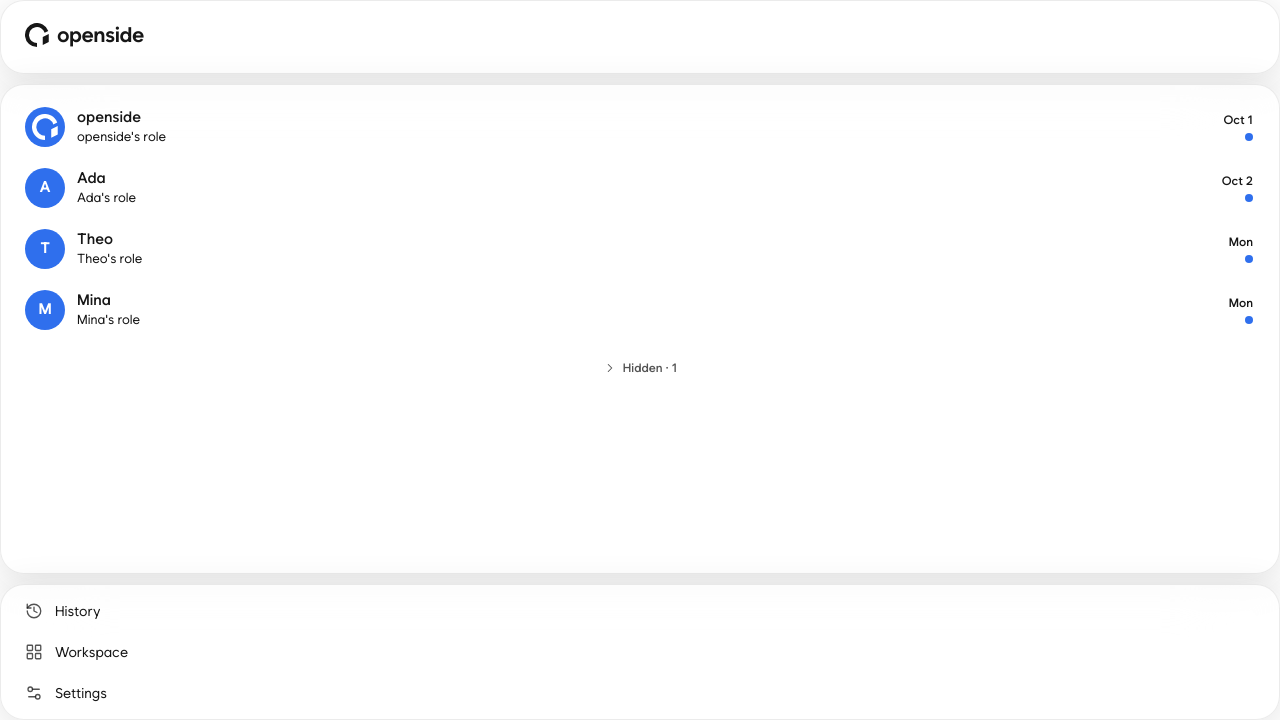
Test: people order › folds hidden teammates behind a disclosure
Expected: the link "Quiet" is not shown
Click the button "Hidden · 1". click: (640, 368)
box: [13,348,1267,388]
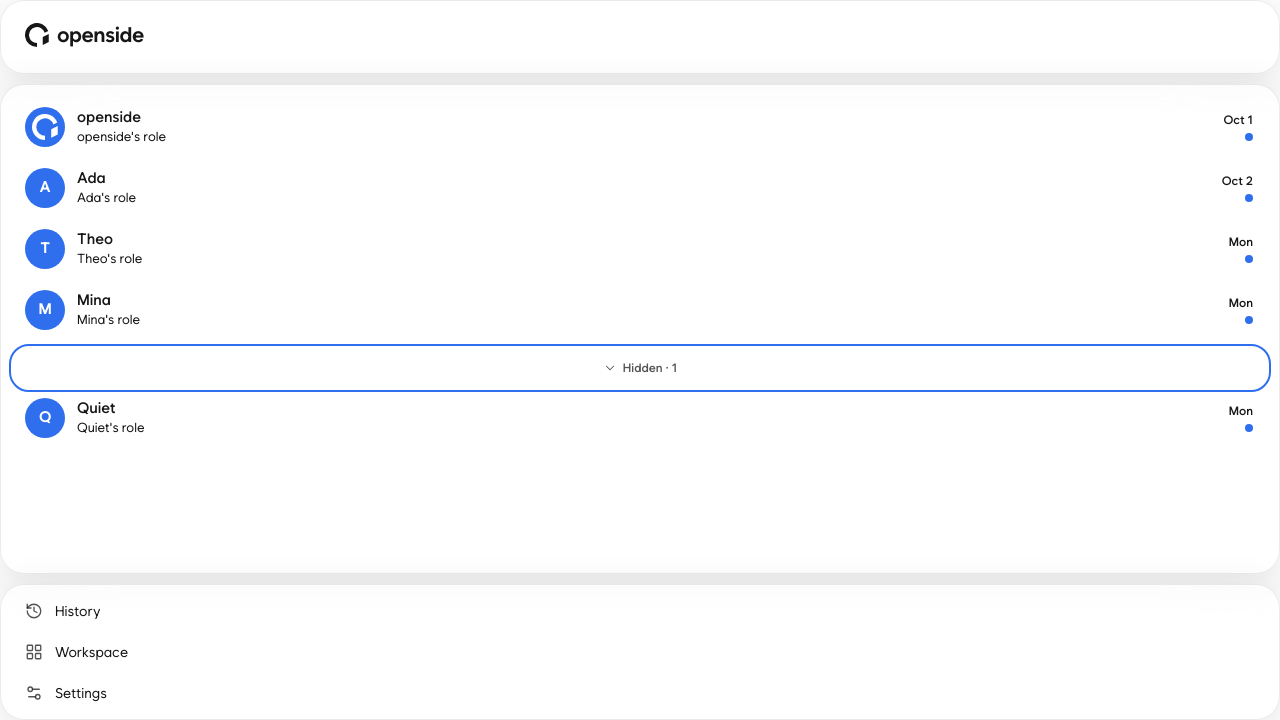
Result: the link "Q Quiet Quiet's role Mon" is shown at [13,388,1267,448]
